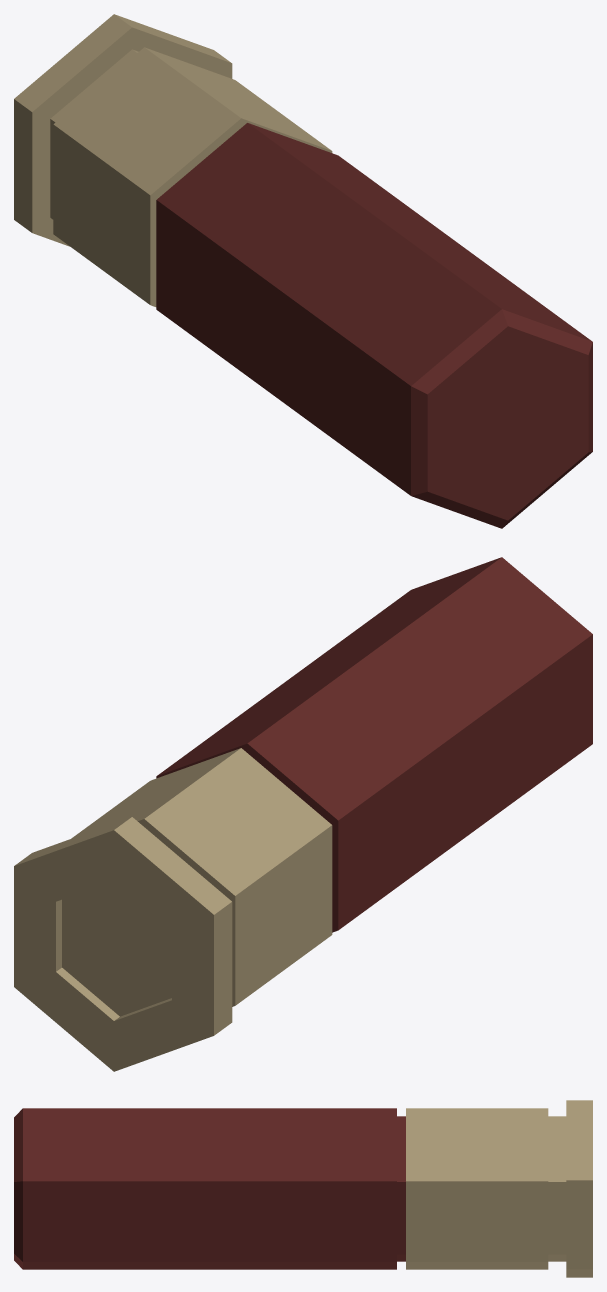
File: Bullet_ShotGun_A.fbx
The picture shows the model from 3 angles, top to bottom: view 1: azimuth 30°, elevation 25°; view 2: azimuth 150°, elevation 25°; view 3: azimuth 270°, elevation 25°; orthographic projection. The views are drawn at different scales.
Visible parts, largest first — view 1: Bullet_ShotGun_A; view 2: Bullet_ShotGun_A; view 3: Bullet_ShotGun_A.
Part boxes in pixels (x1,y1,x2,y2): Bullet_ShotGun_A: (14, 14, 592, 528); Bullet_ShotGun_A: (14, 557, 592, 1071); Bullet_ShotGun_A: (14, 1100, 592, 1277).
Size of the model in its own units: 0.0238 by 0.0275 by 0.0812.
